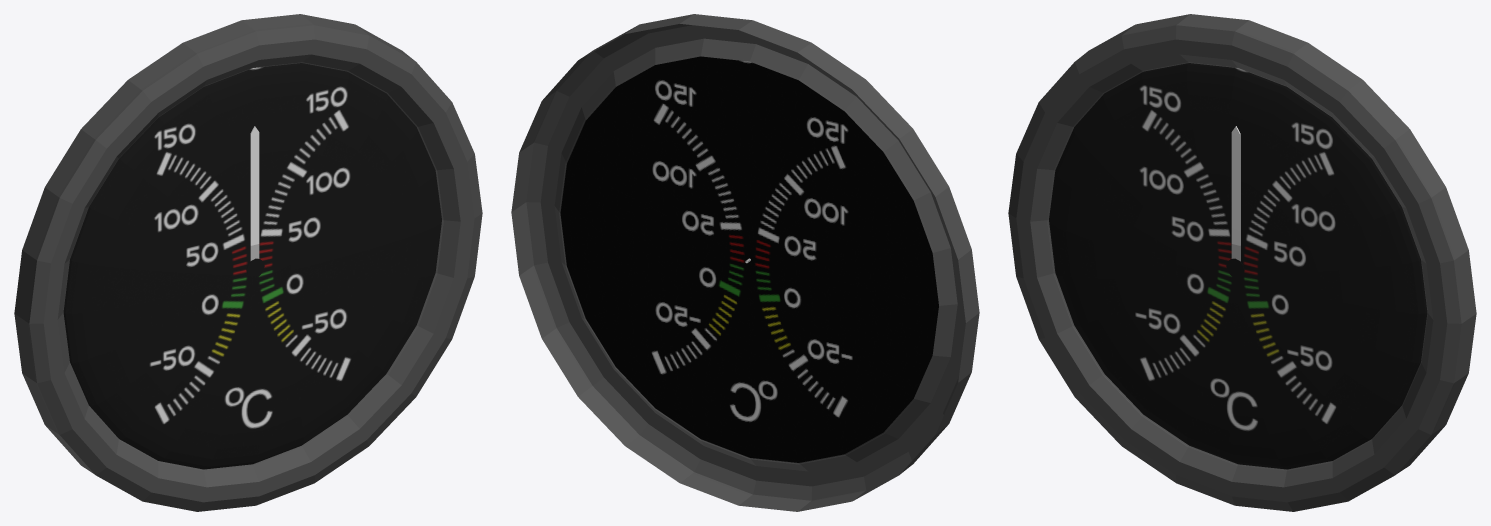
The model's file is Gauge_TemperatureArcs.obj.
The picture shows the model from 3 angles, left to right: view 1: azimuth 30°, elevation 25°; view 2: azimuth 150°, elevation 25°; view 3: azimuth 330°, elevation 25°; orthographic projection.
Parts seen in each view (by area): view 1: Face, Rim, NeedleMain; view 2: Face, Rim; view 3: Face, Rim, NeedleMain.
Boxes of the visible parts, x1,y1,x2,y2 form: Face: (63,63,441,469); Rim: (14,14,482,511); NeedleMain: (250,126,259,245); Face: (560,56,938,462); Rim: (511,14,979,511); Face: (1049,63,1427,469); Rim: (1008,14,1476,511); NeedleMain: (1231,126,1240,245).
Bounding box in the file's own units: 0.0822 × 0.0822 × 0.00794.
